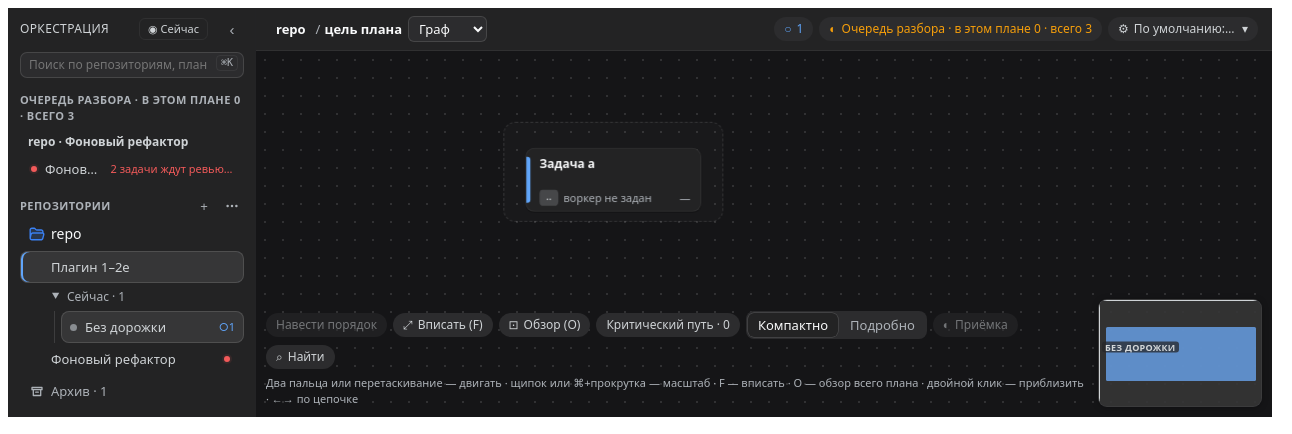
Test: sidebar in the screen › collapses to a badge rail with repository initials
Step 1. Click the button named "Свернуть планы" → click(232, 29), box [220, 17, 244, 41]
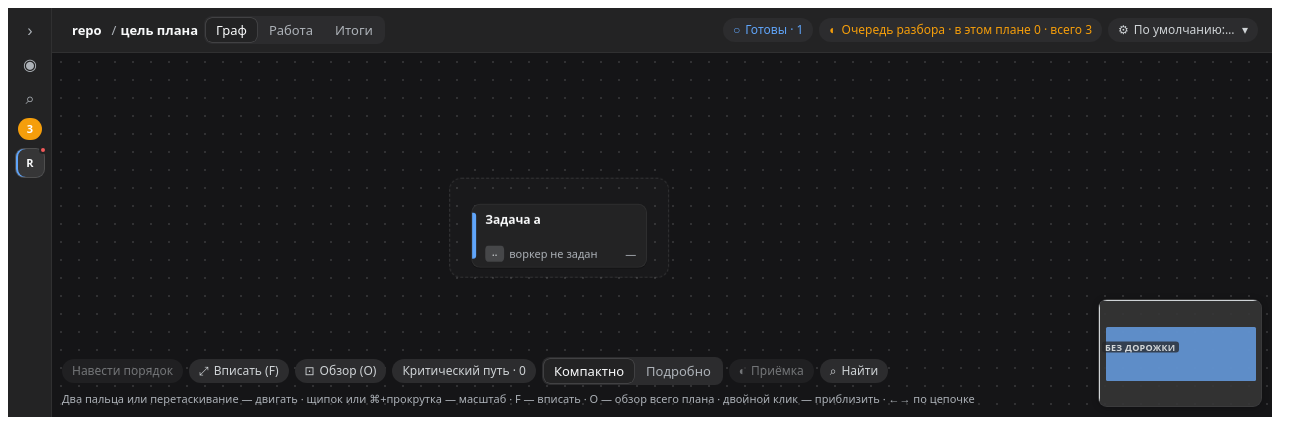
Expected: the navigation bar named "Репозитории" is shown, [8, 8, 52, 417]
Expected: the button named "Развернуть планы" is shown, [15, 16, 45, 46]
